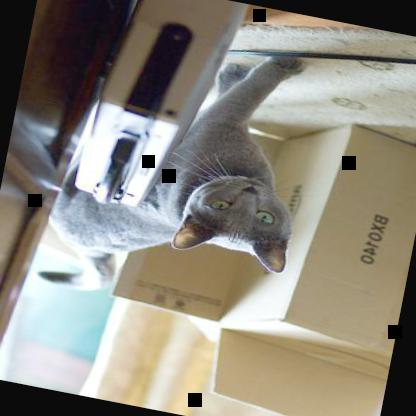cat: (35, 15, 326, 328)
